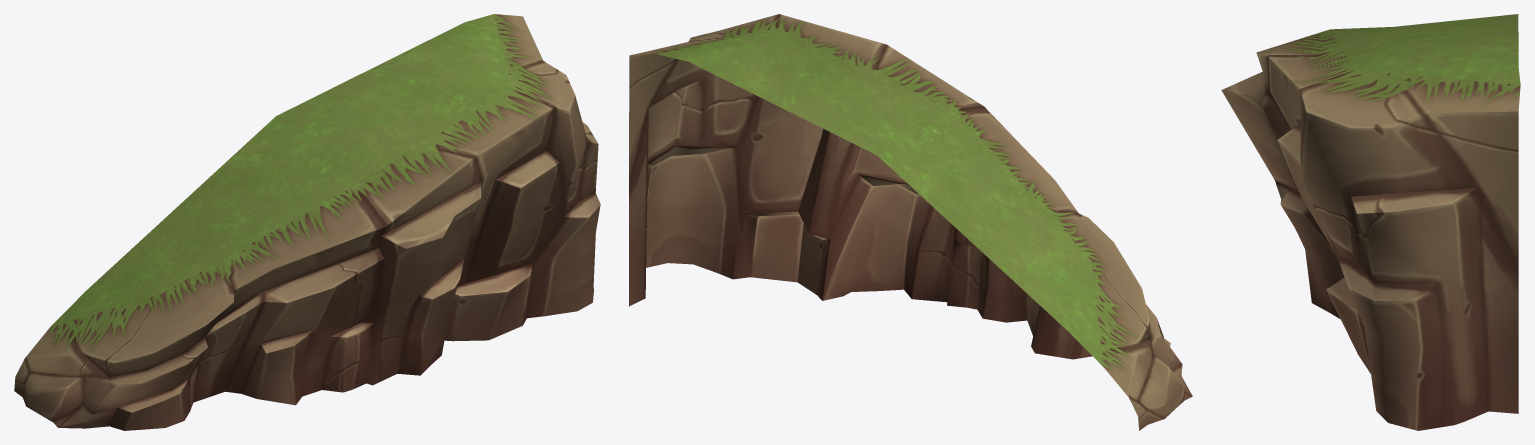
Rendered from Cliff-Hill #3.FBX.
The picture shows the model from 3 angles, left to right: view 1: azimuth 30°, elevation 25°; view 2: azimuth 150°, elevation 25°; view 3: azimuth 270°, elevation 25°; orthographic projection. The views are drawn at different scales.
Parts seen in each view (by area): view 1: Cliff-Hill #3; view 2: Cliff-Hill #3; view 3: Cliff-Hill #3.
Part boxes in pixels (x1,y1,x2,y2): Cliff-Hill #3: (14,14,600,430); Cliff-Hill #3: (629,14,1192,430); Cliff-Hill #3: (1221,14,1520,430).
Size of the model in its own units: 726 by 330 by 286.
1 material, 1 textured.
